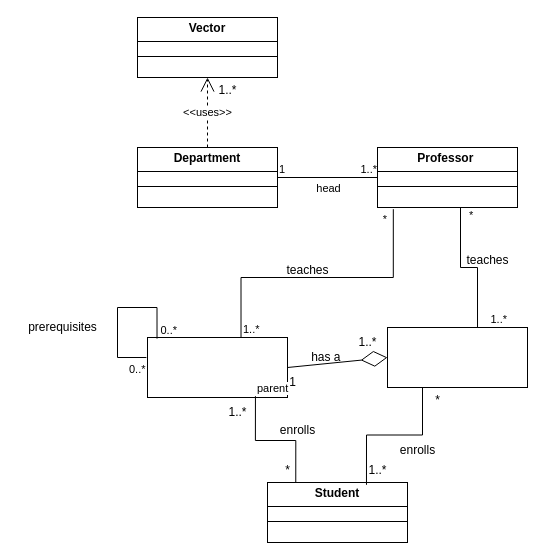
The diagram is 545 pixels wide and 560 high, and some of its shapes have lost their labels. Here are the shapes that lost their labels. From the top down, the centre of each, then its label:
At point 217,367: "Course".
At point 457,357: "Sections".
